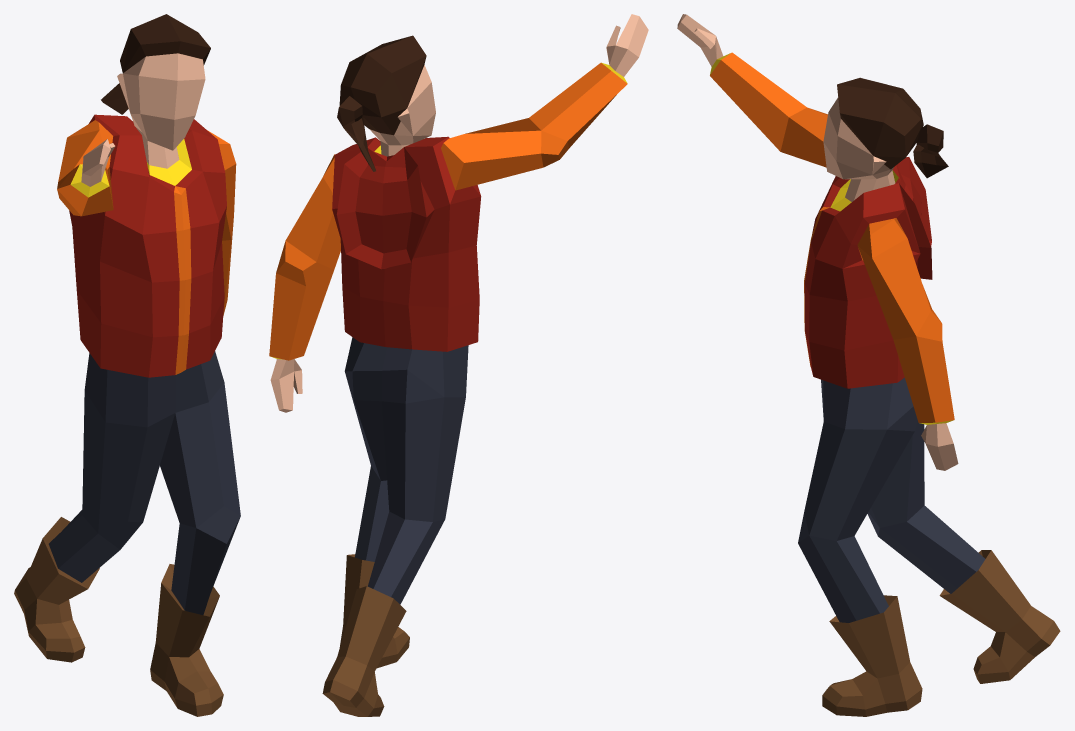
Rendered from AutumnGirl.003.glb.
3 views of the same model, side by side, from view 1: azimuth 30°, elevation 25°; view 2: azimuth 150°, elevation 25°; view 3: azimuth 270°, elevation 25° (orthographic). The views are drawn at different scales.
Visible parts, largest first — view 1: AutumnGirl.003; view 2: AutumnGirl.003; view 3: AutumnGirl.003.
Boxes of the visible parts, <box> form: AutumnGirl.003: <box>14,14,240,716</box>; AutumnGirl.003: <box>269,14,648,716</box>; AutumnGirl.003: <box>677,14,1060,716</box>.
Bounding box in the file's own units: 0.7144 × 1.7 × 0.9544.
1 material, 1 textured.
